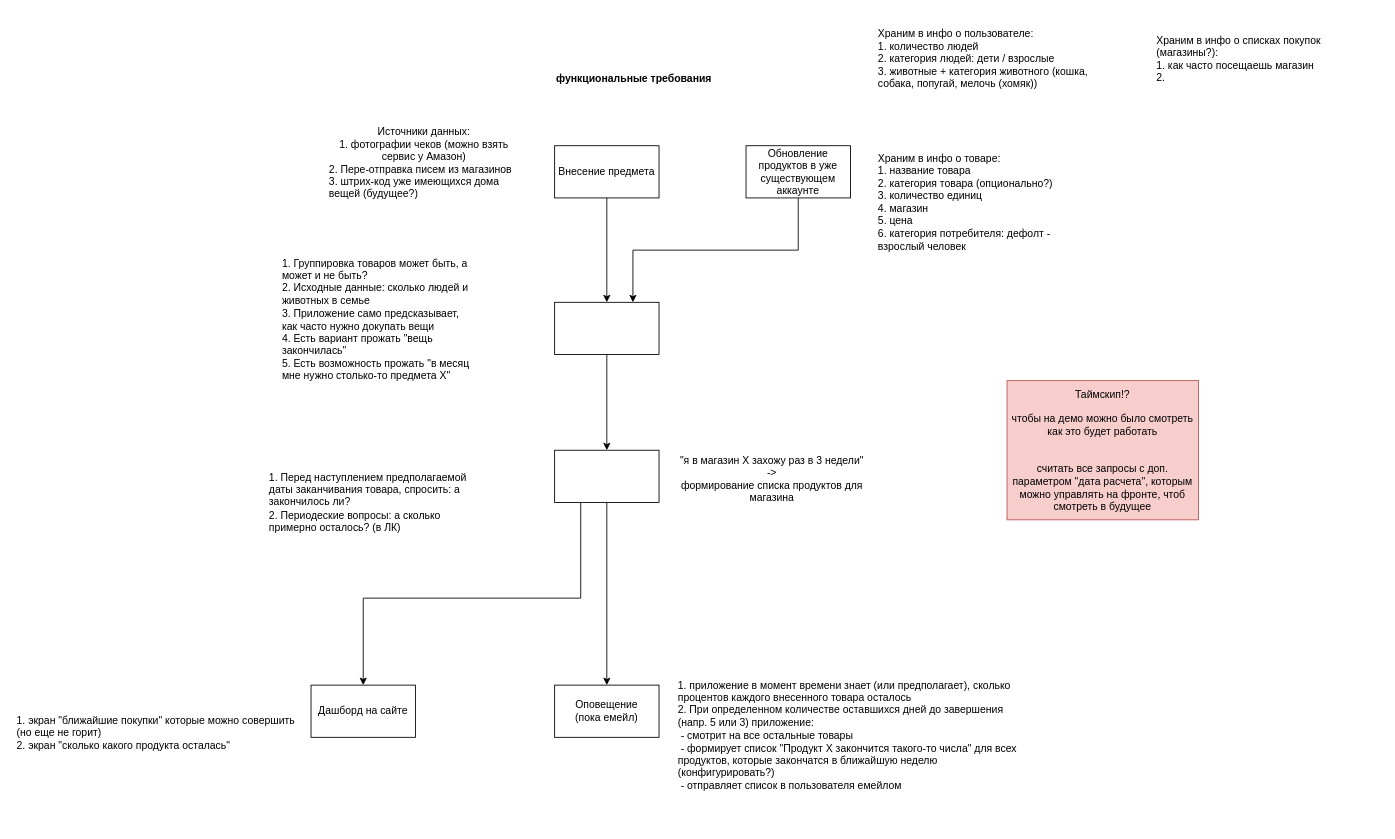
The diagram is 1395 pixels wide and 839 high, and some of its shapes have lost their labels. Each missing label, with the box of its shape:
Прогноз использования: (554, 301, 659, 355)
Формирование списка продуктов: (554, 449, 659, 502)
